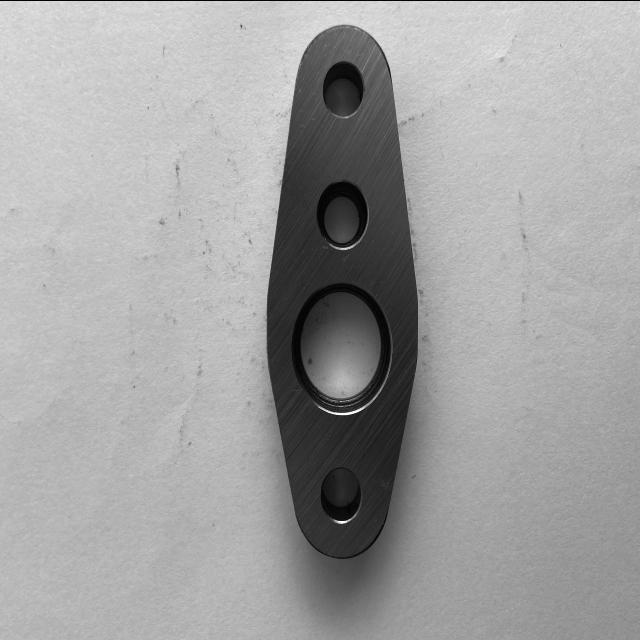chap: (300, 123, 306, 131), (342, 257, 347, 262), (301, 248, 305, 254)
